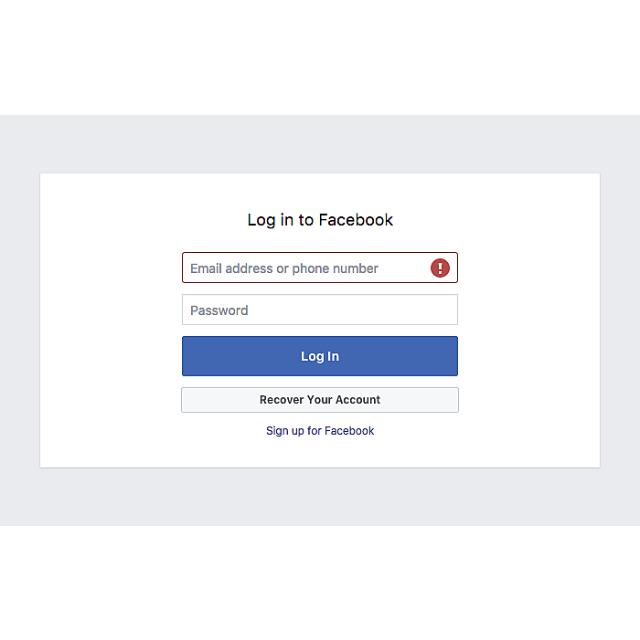QLabel: (246, 208, 396, 230), (264, 422, 376, 438), (257, 392, 381, 406), (298, 348, 342, 364)
VBtn: (181, 334, 459, 378), (180, 384, 460, 414)
VCard: (39, 170, 602, 470)
VTextField: (180, 250, 460, 284), (180, 292, 460, 326)
